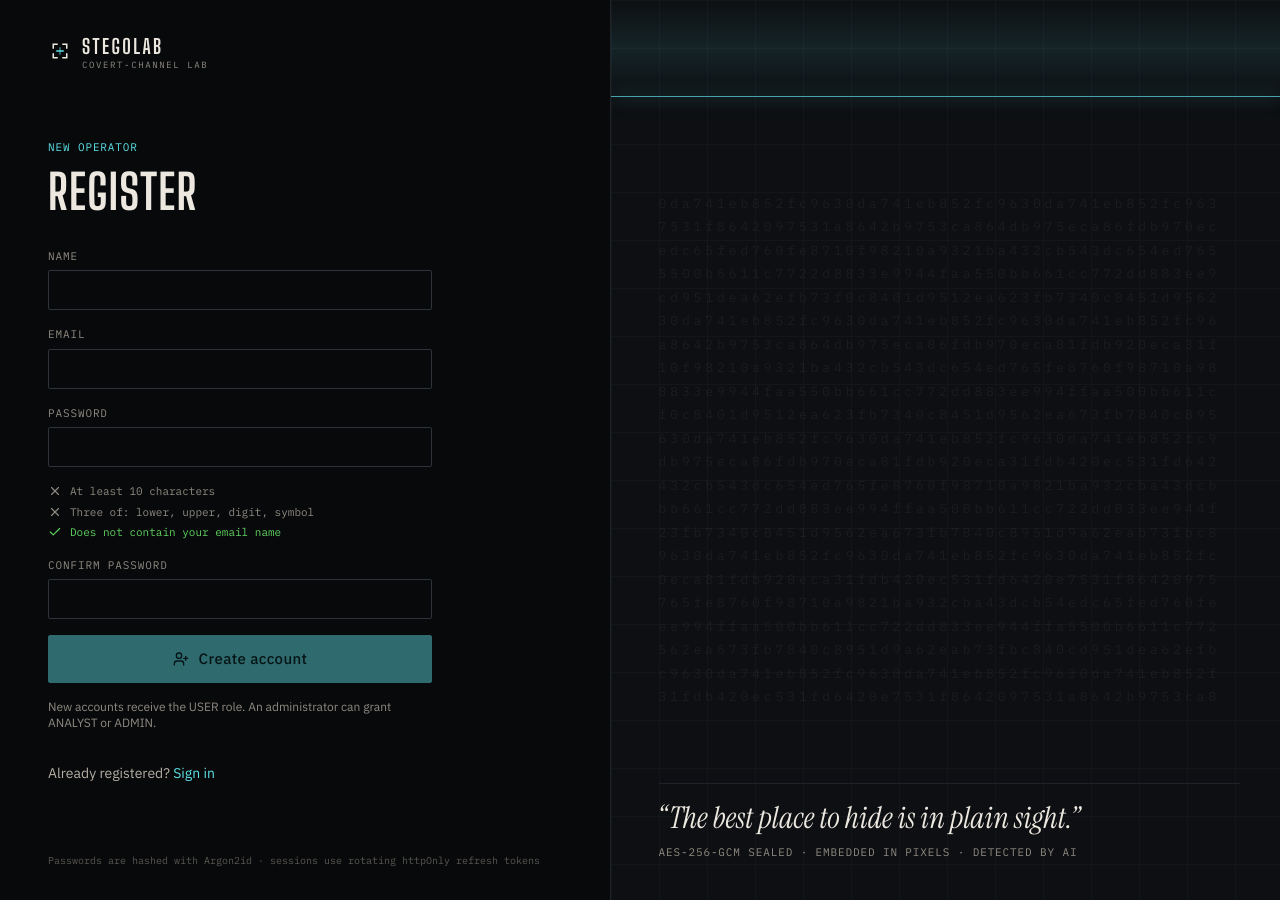
Test: Register › mirrors the server password policy and blocks weak submissions
The width and height of the screenshot is (1280, 900).
Type "Ada" into the field labelled "Name" at (240, 290), box x1=48 y1=270 x2=432 y2=310
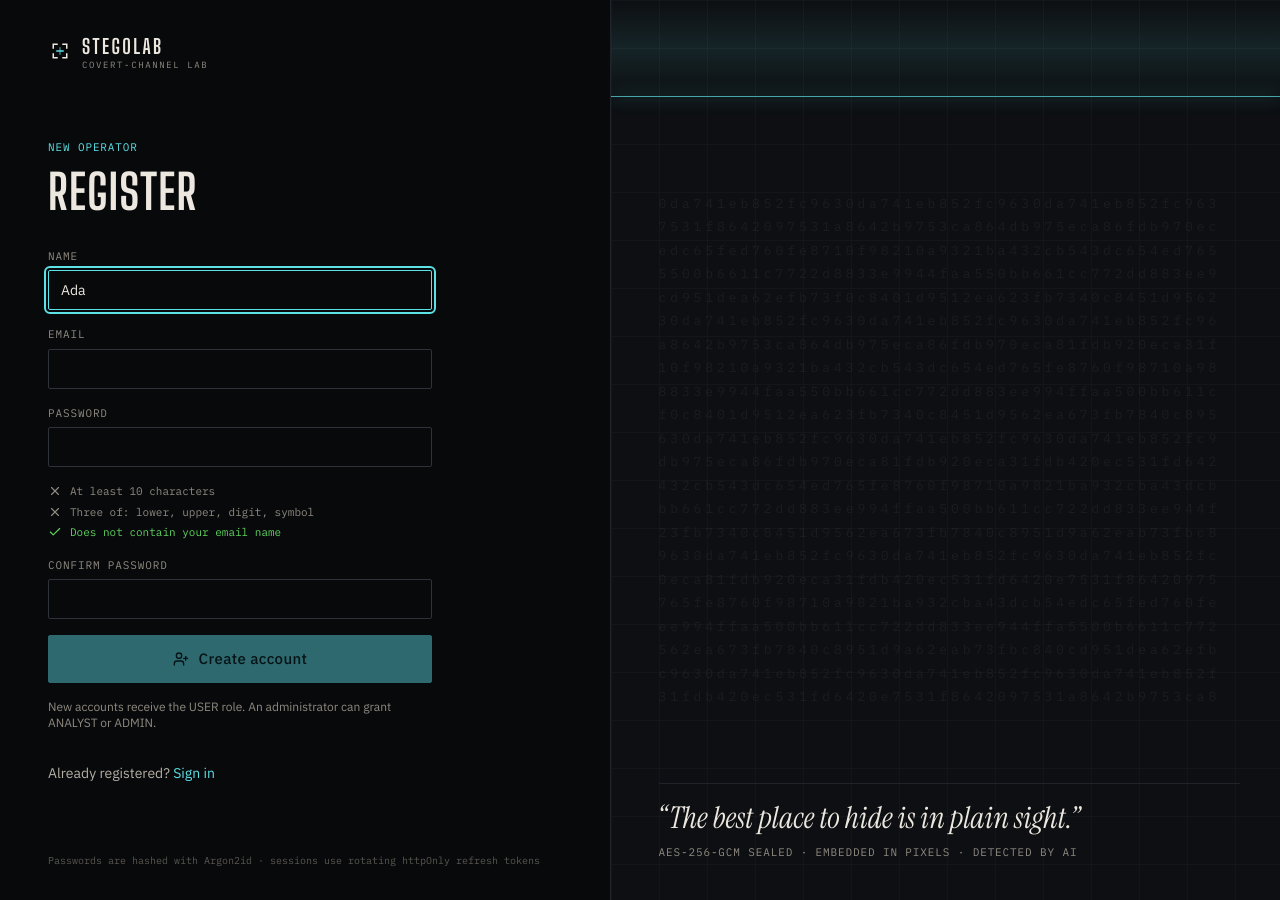
Type "ada@example.com" into the field labelled "Email" at (240, 368), box x1=48 y1=348 x2=432 y2=388
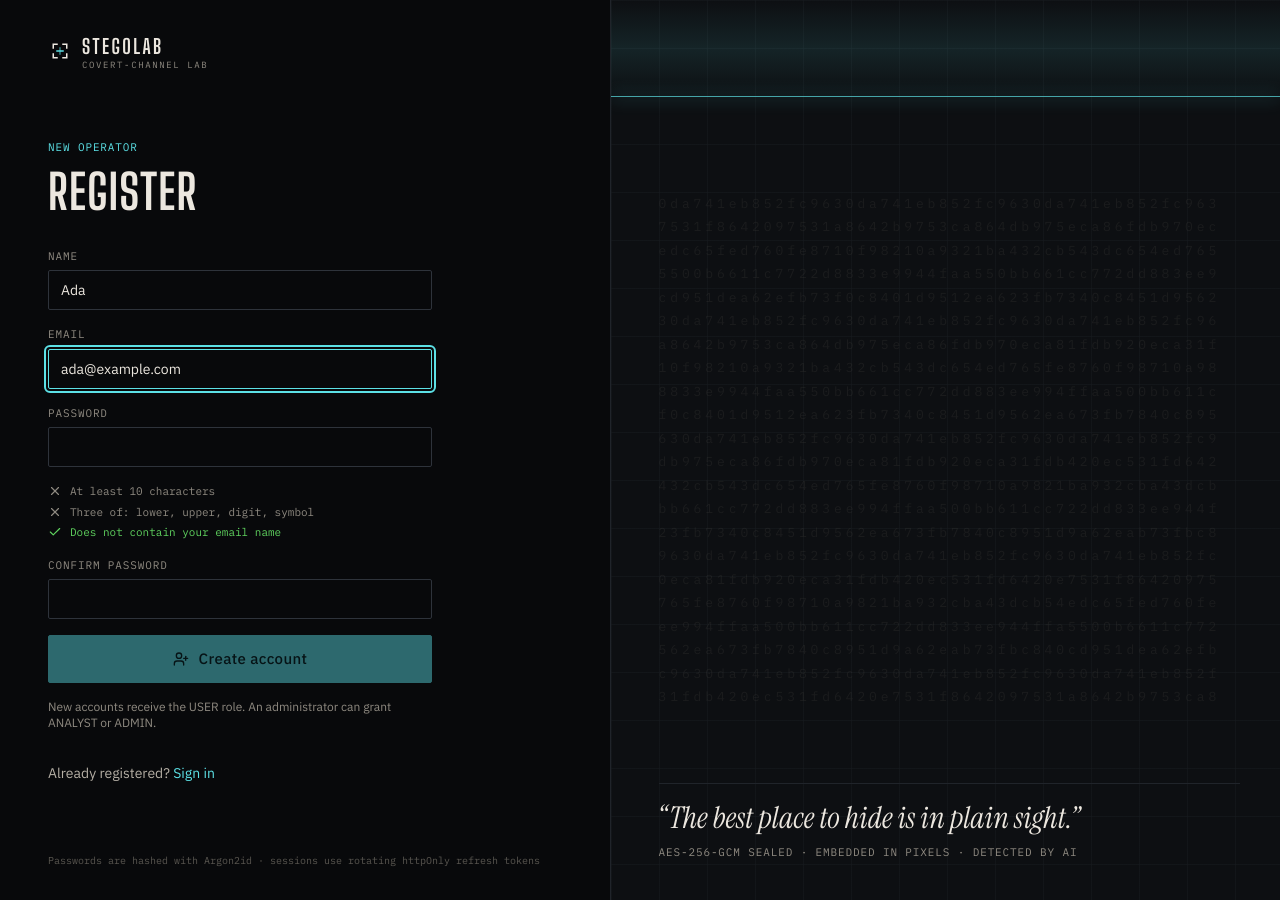
Type "short" into the password field labelled "Password" at (240, 447), box x1=48 y1=427 x2=432 y2=467
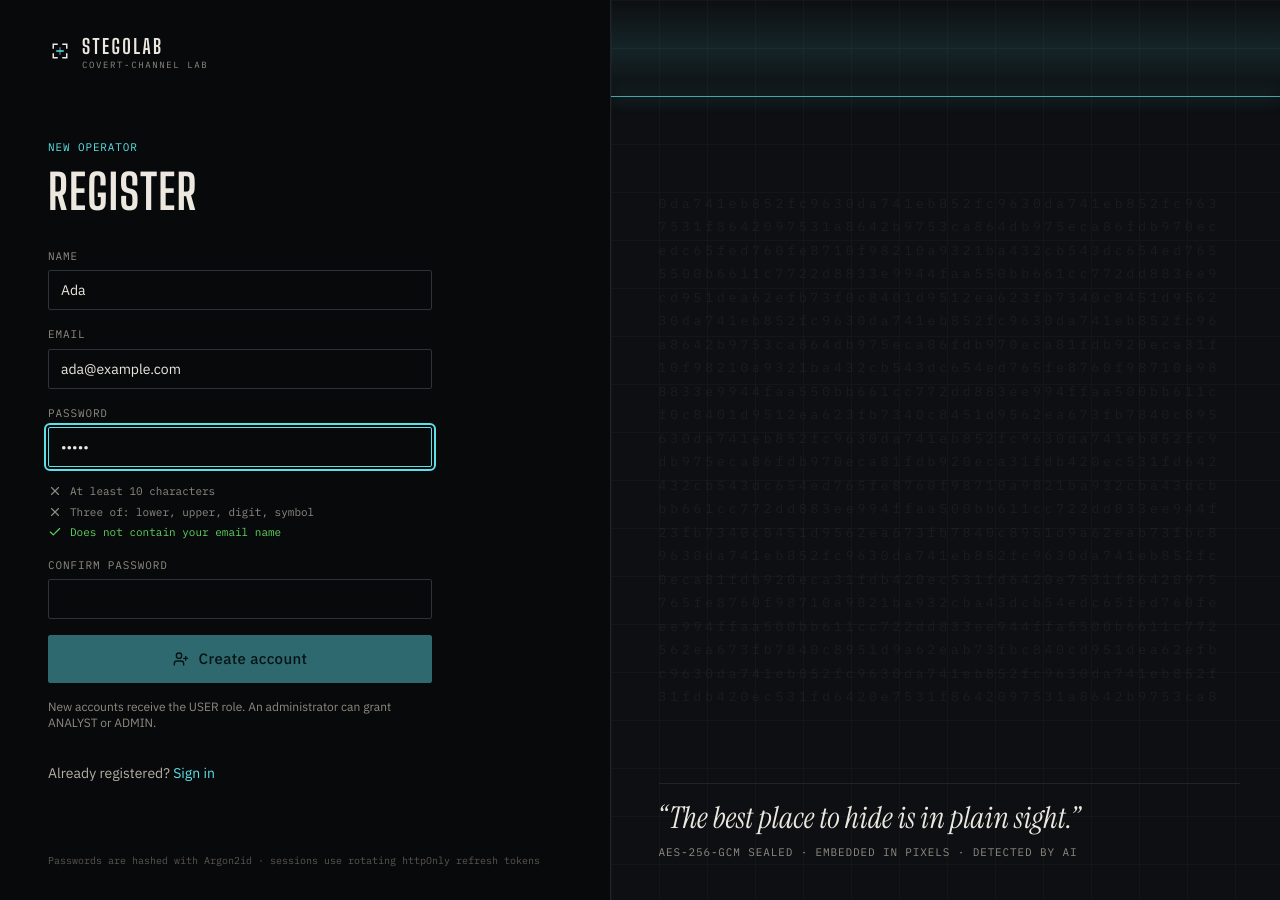
Expected: the button "Create account" is disabled, x1=48 y1=635 x2=432 y2=683
Type "Correct-Horse-42" into the password field labelled "Password" at (240, 447), box x1=48 y1=427 x2=432 y2=467
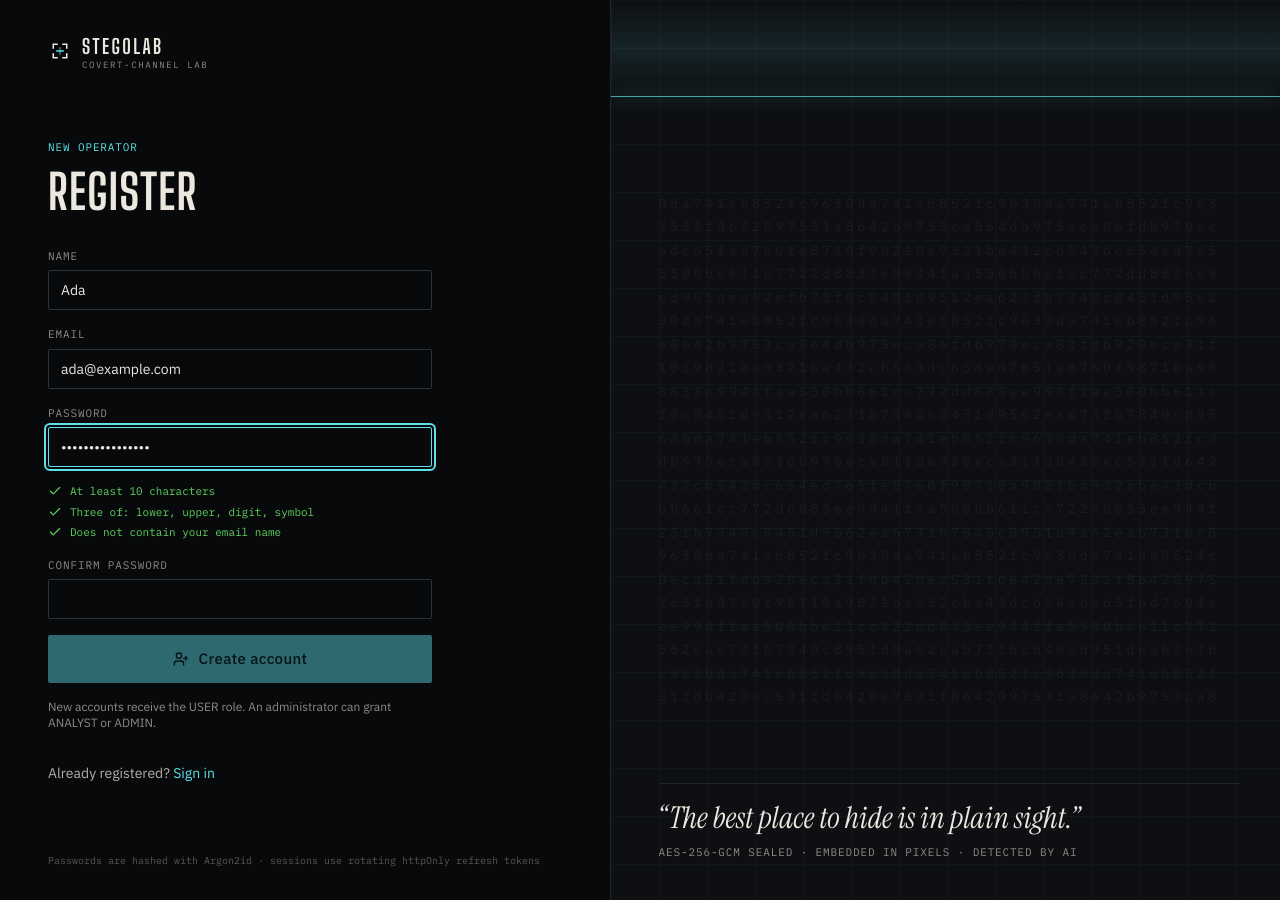
Type "Correct-Horse-42" into the password field labelled "Confirm password" at (240, 599), box x1=48 y1=579 x2=432 y2=619
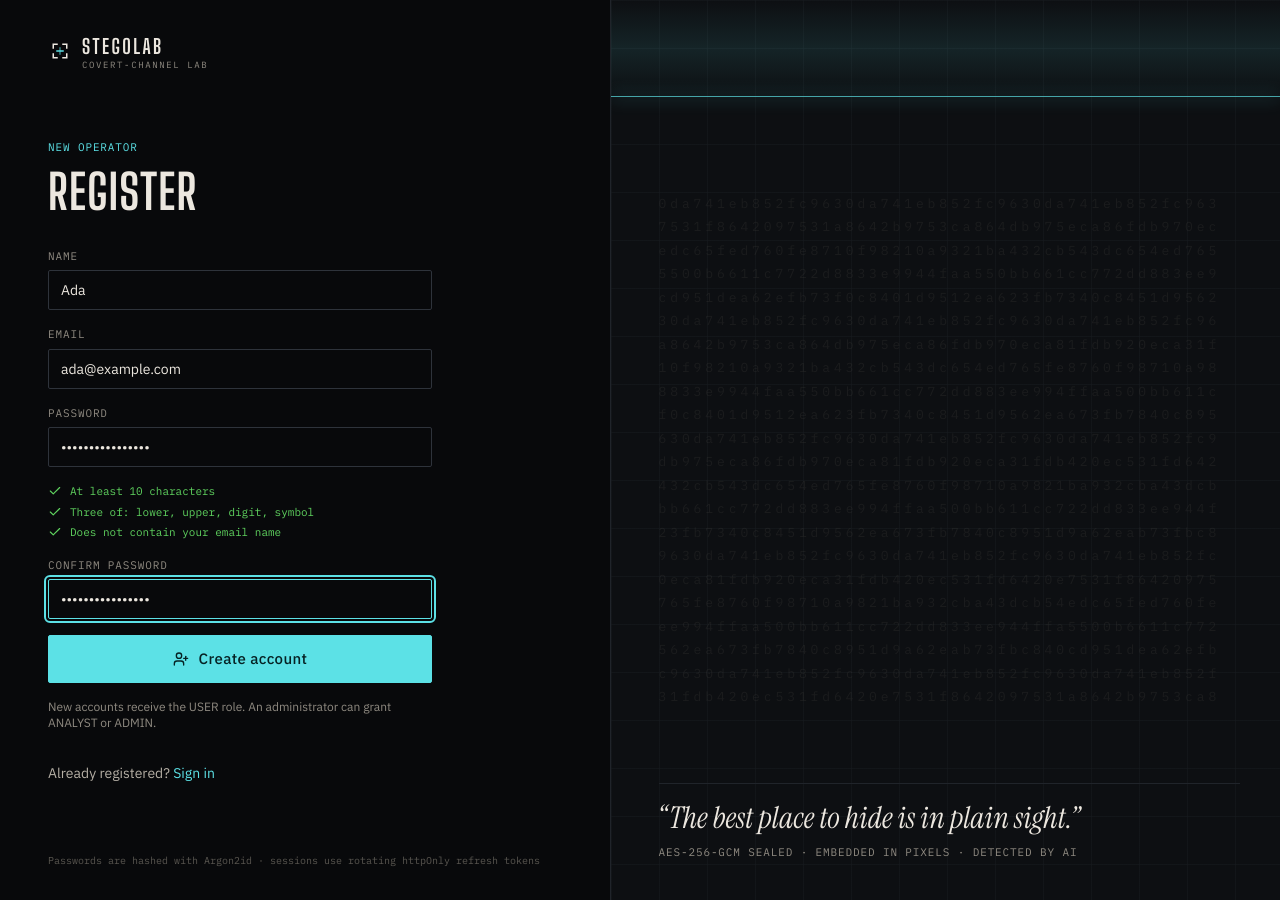
Now the button "Create account" is enabled, box x1=48 y1=635 x2=432 y2=683
